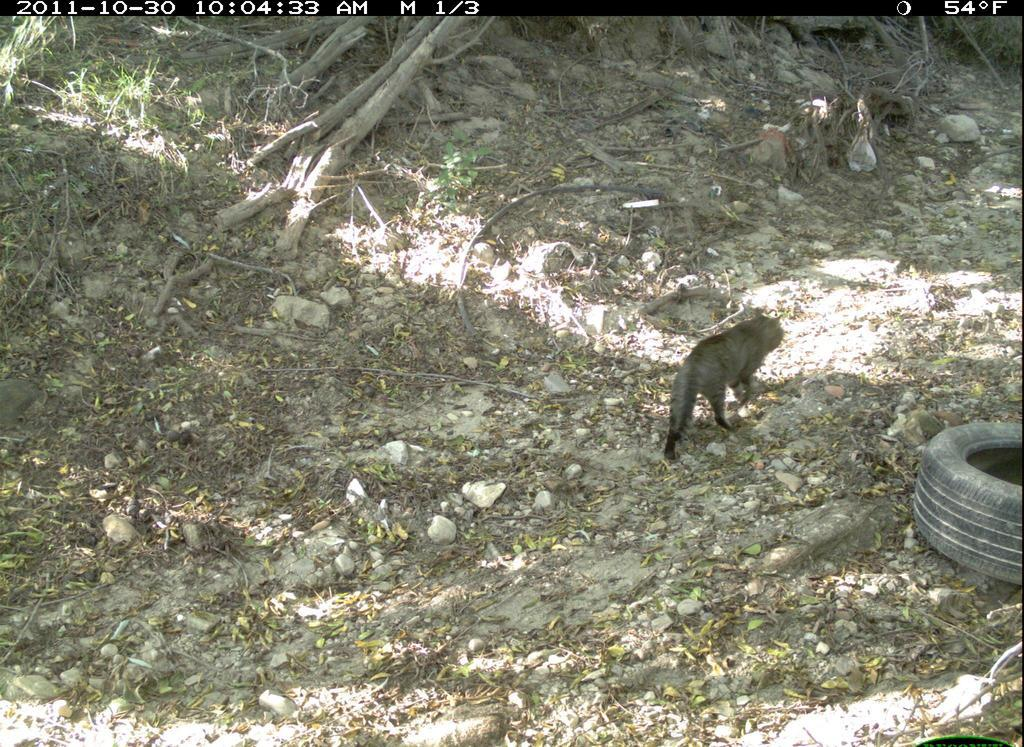cat: (617, 310, 798, 470)
